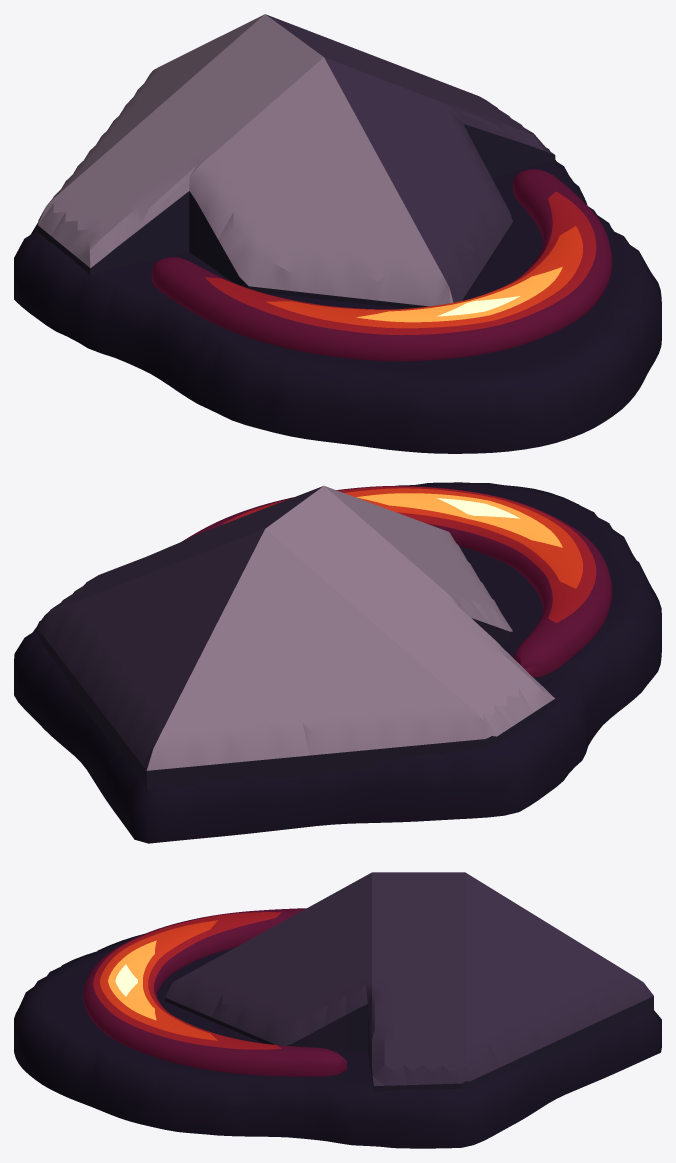
Rendered from arrow_purple.glb.
The picture shows the model from 3 angles, top to bottom: view 1: azimuth 30°, elevation 25°; view 2: azimuth 150°, elevation 25°; view 3: azimuth 270°, elevation 25°; orthographic projection. The views are drawn at different scales.
Parts seen in each view (by area): view 1: gem, backing, crescent; view 2: gem, backing, crescent; view 3: gem, backing, crescent.
Boxes of the visible parts, x1=… form: gem: x1=38, y1=14, x2=555, y2=308; backing: x1=14, y1=147, x2=661, y2=453; crescent: x1=151, y1=169, x2=612, y2=361; gem: x1=38, y1=486, x2=555, y2=789; backing: x1=14, y1=482, x2=661, y2=843; crescent: x1=182, y1=485, x2=612, y2=677; gem: x1=165, y1=872, x2=653, y2=1092; backing: x1=14, y1=933, x2=661, y2=1148; crescent: x1=83, y1=908, x2=346, y2=1076.
Size of the model in its own units: 17 by 7.1 by 23.54.
